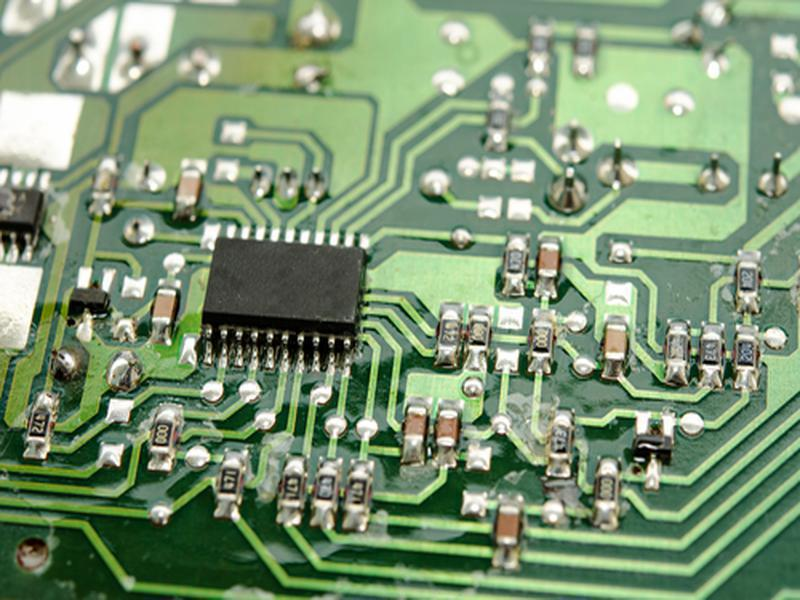SMD capacitor: (494, 498, 521, 550), (603, 316, 628, 369), (537, 235, 562, 287), (403, 403, 429, 451), (436, 405, 460, 450), (176, 164, 199, 210), (153, 283, 176, 327)
SMD resistor: (594, 460, 623, 522), (733, 260, 766, 311), (437, 306, 463, 363), (545, 412, 574, 463), (697, 329, 728, 376), (732, 328, 763, 375), (27, 403, 54, 452), (527, 317, 557, 359), (218, 456, 242, 507), (345, 469, 371, 515), (150, 409, 174, 458), (502, 239, 525, 290), (467, 311, 492, 357), (278, 468, 305, 510), (667, 327, 689, 378), (315, 469, 337, 508)
